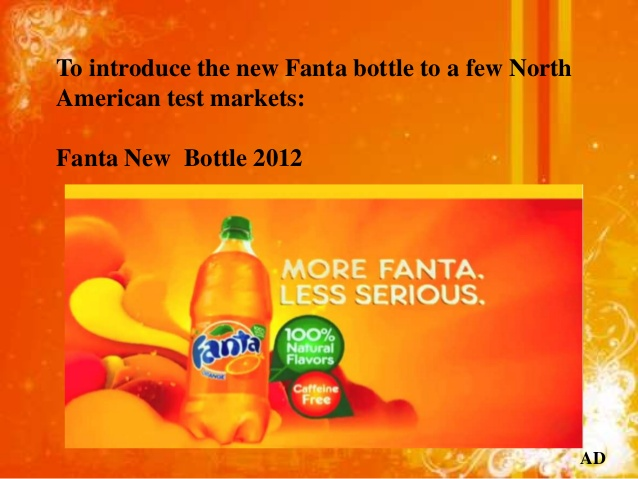Fanta: (196, 224, 271, 447)
